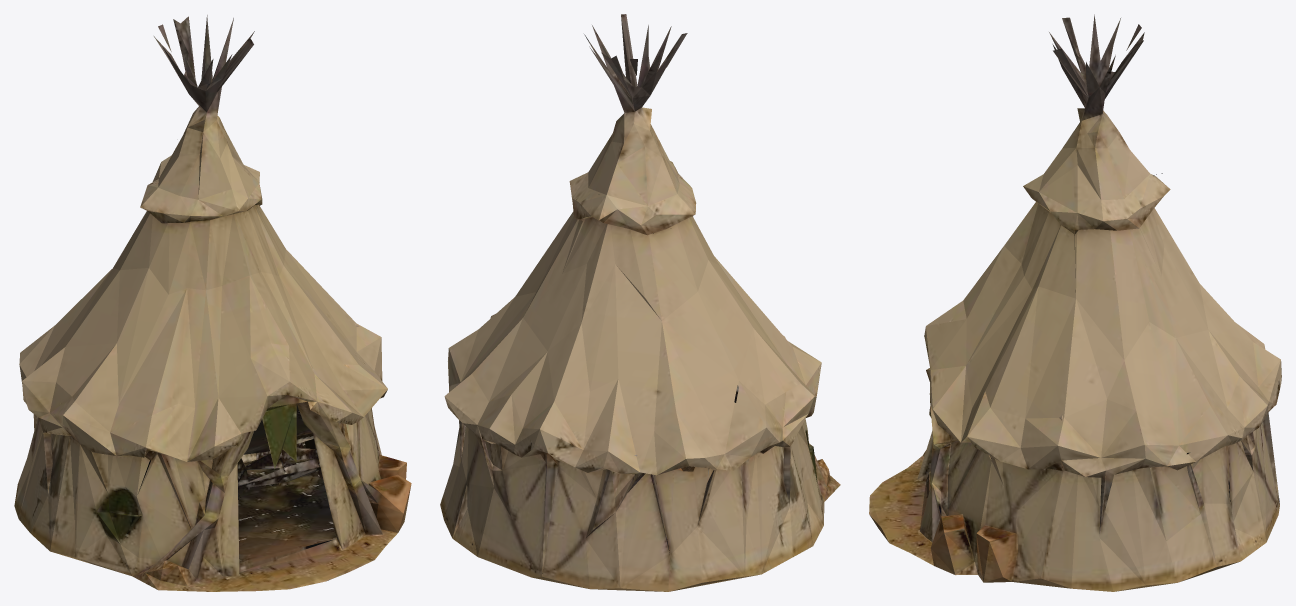
File: tent_shop_conical_lod0.glb
3 renders of one model, left to right at view 1: azimuth 30°, elevation 25°; view 2: azimuth 150°, elevation 25°; view 3: azimuth 270°, elevation 25°, orthographic.
Visible parts, largest first — view 1: tent_shop_conical_lod0; view 2: tent_shop_conical_lod0; view 3: tent_shop_conical_lod0.
Part boxes in pixels (bbox=[...]): tent_shop_conical_lod0: bbox=[14, 15, 411, 591]; tent_shop_conical_lod0: bbox=[440, 14, 840, 591]; tent_shop_conical_lod0: bbox=[869, 14, 1281, 591].
Size of the model in its own units: 2.94 by 4.02 by 3.15.
Materials: 1 (1 with a texture image).
